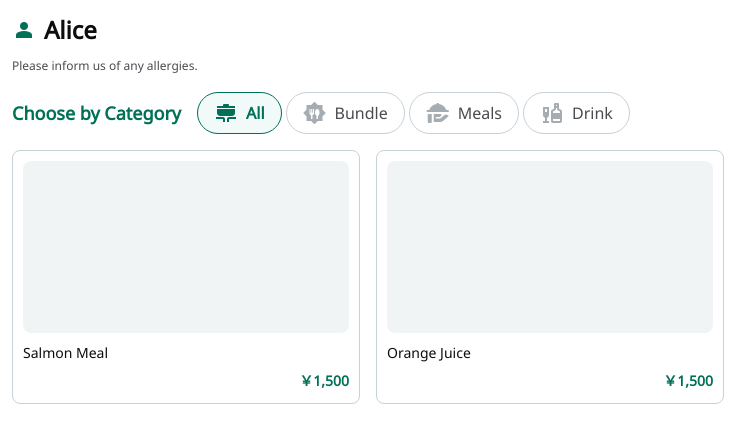
Test: MealSelectionFlow › category filtering › shows all meals when All chip is clicked after filtering
What coordinates should you click on to do the following:
click the button "Meals"
I would click on:
 (464, 113)
Its box is 409,92 -> 519,134.
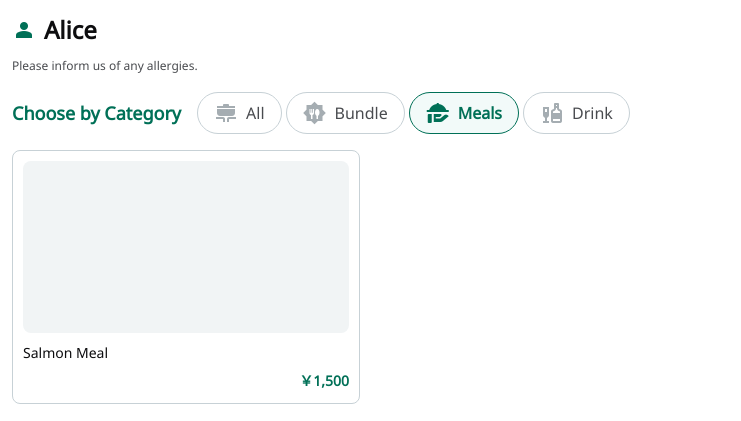
What coordinates should you click on to do the following:
click the button "All"
I would click on:
 (239, 113)
Its box is 197,92 -> 282,134.
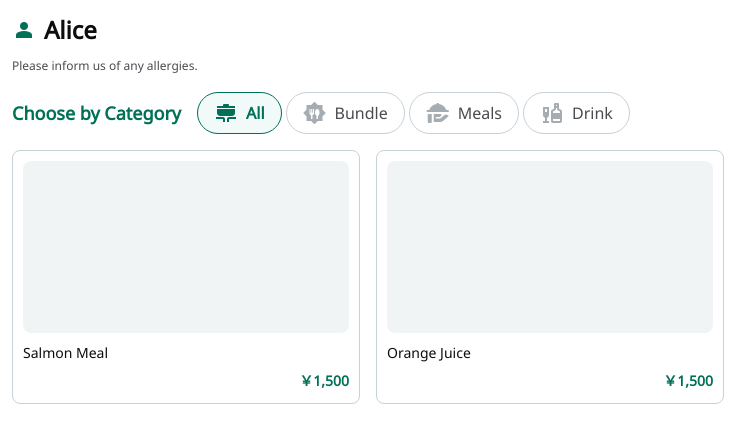
Expected: the text "Salmon Meal" is shown, 23,343 -> 108,362
Expected: the text "Orange Juice" is shown, 387,343 -> 471,362
